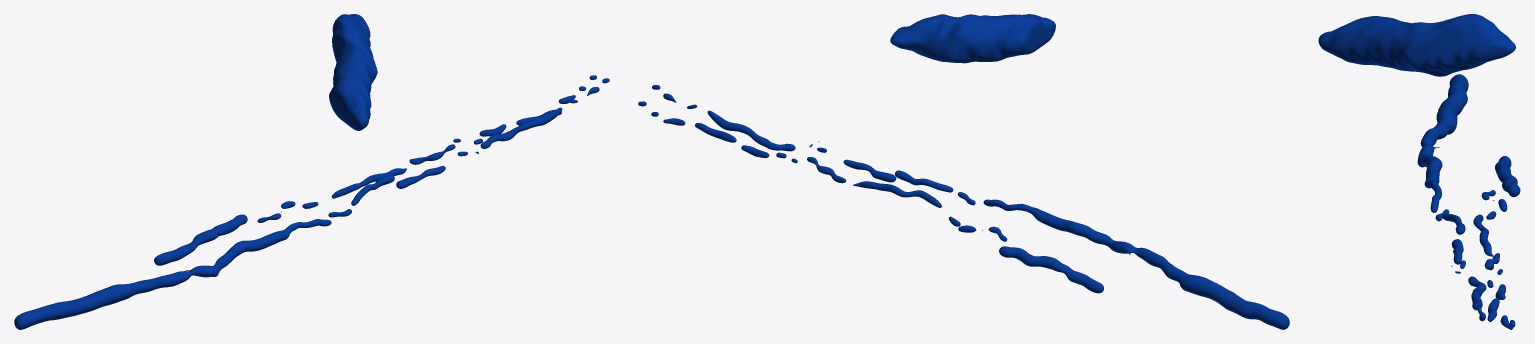
Rendered from PortalVein.obj.
3 views of the same model, side by side, from view 1: azimuth 30°, elevation 25°; view 2: azimuth 150°, elevation 25°; view 3: azimuth 270°, elevation 25° (orthographic). The views are drawn at different scales.
Parts seen in each view (by area): view 1: PortalVein; view 2: PortalVein; view 3: PortalVein.
Part boxes in pixels (x1,y1,x2,y2): PortalVein: (14,14,609,329); PortalVein: (638,14,1289,329); PortalVein: (1318,14,1520,329).
Size of the model in its own units: 9.43 by 3.36 by 2.36.
